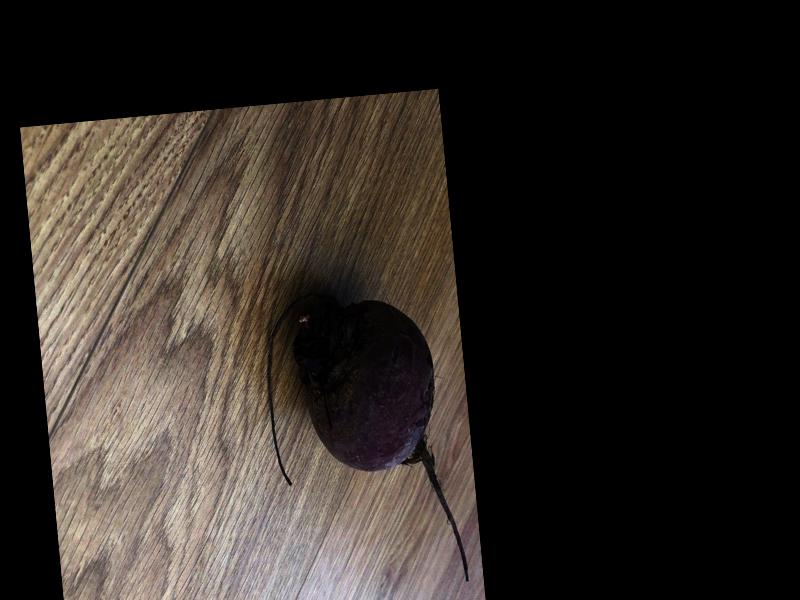Beet: (259, 284, 469, 598)
